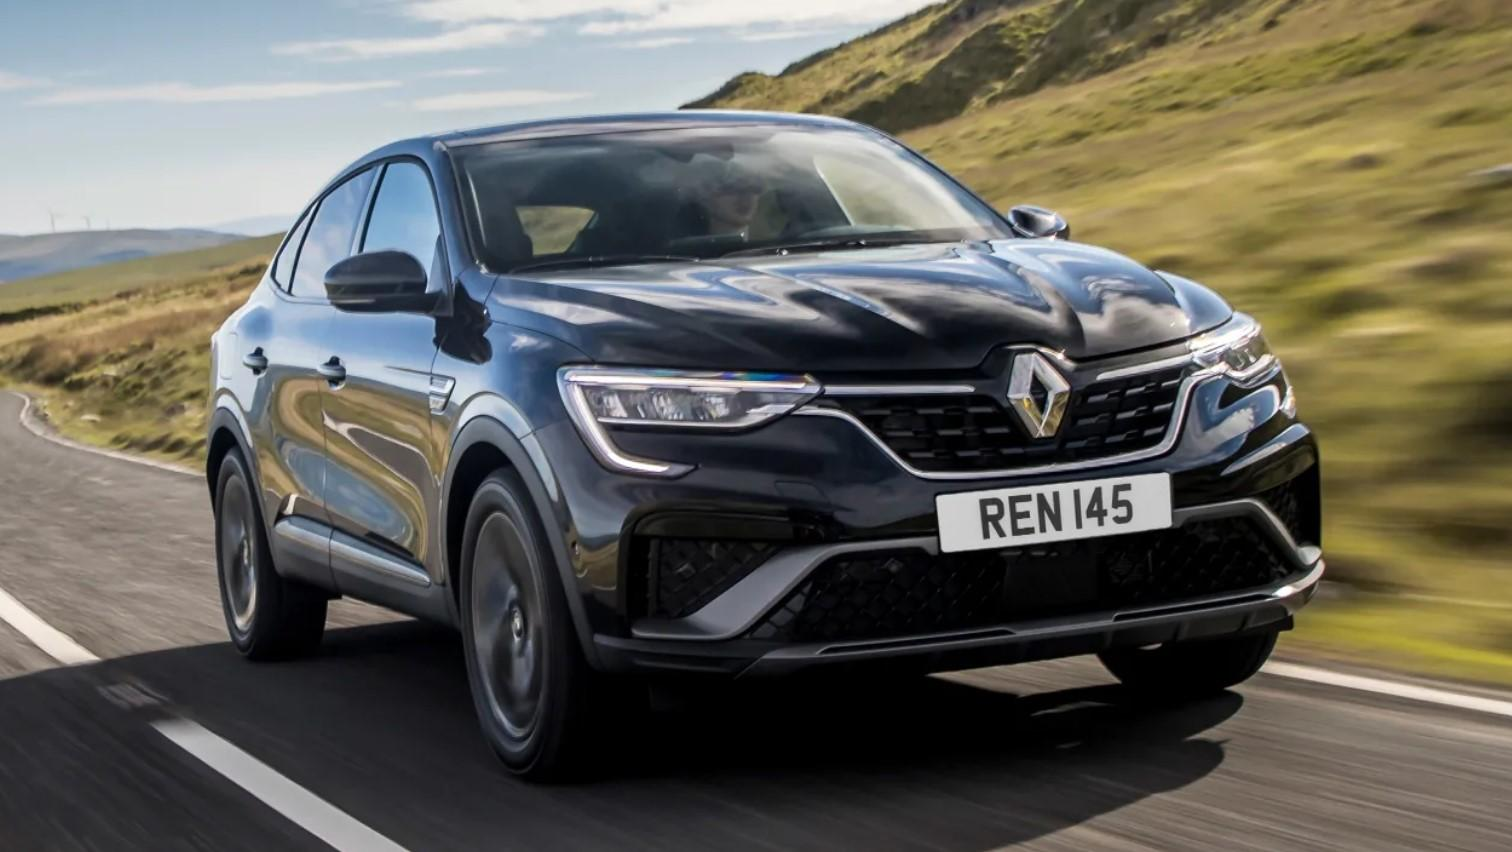Renault: (1005, 339, 1080, 451)
